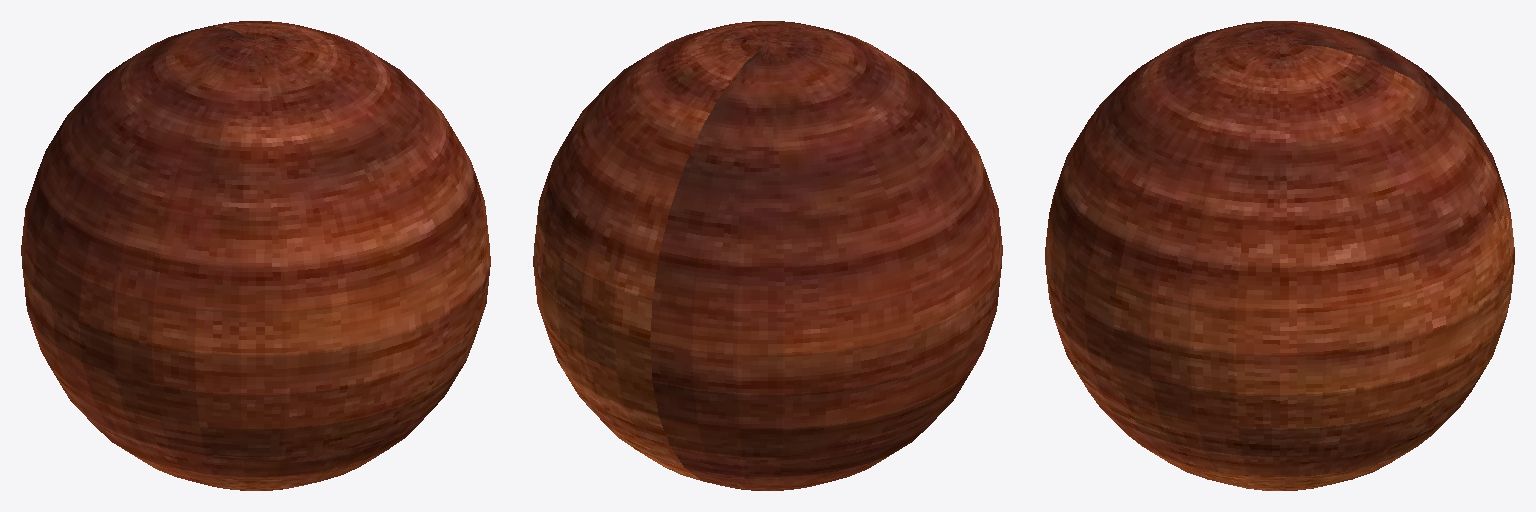
3 views of the same model, side by side, from view 1: azimuth 30°, elevation 25°; view 2: azimuth 150°, elevation 25°; view 3: azimuth 270°, elevation 25° (orthographic).
Parts seen in each view (by area): view 1: Sphere001; view 2: Sphere001; view 3: Sphere001.
Boxes of the visible parts, box(x1,y1,x2,y2) form: Sphere001: box(21, 21, 490, 490); Sphere001: box(533, 21, 1002, 490); Sphere001: box(1045, 21, 1514, 490).
Size of the model in its own units: 75.15 by 75.15 by 75.15.
1 materials, 1 textured.